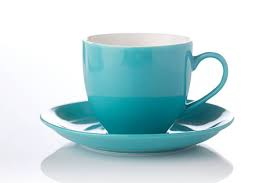cup: (77, 30, 230, 135)
